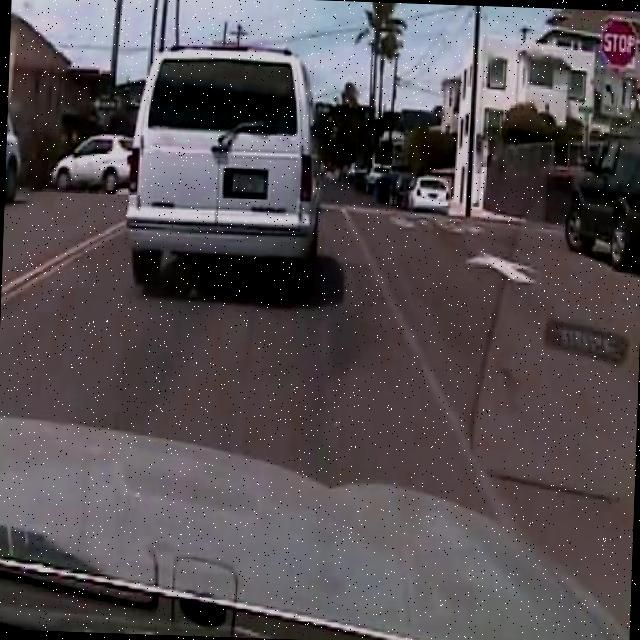Stop: (598, 17, 640, 71)
